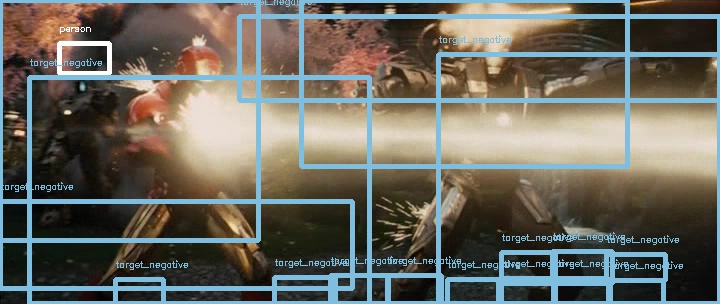person: (171, 39, 219, 90), (170, 39, 218, 90), (172, 39, 220, 90), (171, 38, 219, 89), (171, 40, 219, 91)
target_negative: (621, 7, 709, 242), (590, 126, 669, 240), (77, 248, 340, 267), (503, 217, 705, 240), (641, 29, 662, 231), (319, 122, 397, 169)
